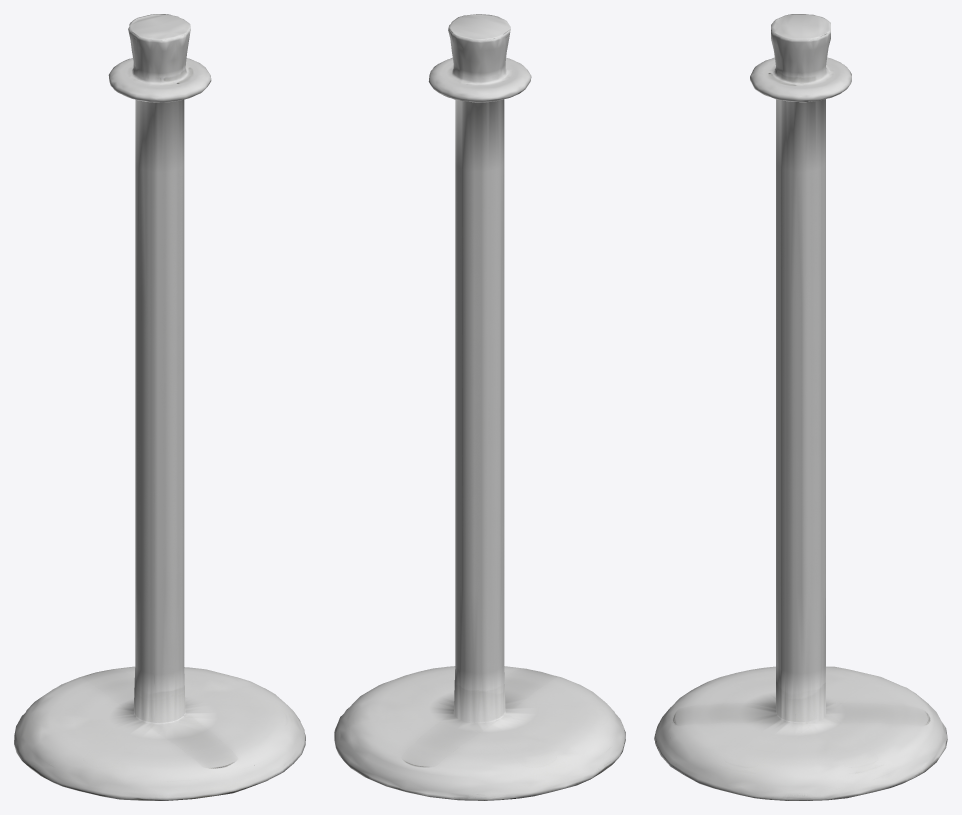
The model's file is Chrome_Stanchion_36InchesTall_0215213637_texture.glb.
3 renders of one model, left to right at view 1: azimuth 30°, elevation 25°; view 2: azimuth 150°, elevation 25°; view 3: azimuth 270°, elevation 25°, orthographic.
Visible parts, largest first — view 1: Mesh_0; view 2: Mesh_0; view 3: Mesh_0.
Part boxes in pixels (x1,y1,x2,y2): Mesh_0: (14,14,305,800); Mesh_0: (334,14,625,800); Mesh_0: (654,14,947,800).
Size of the model in its own units: 0.3361 by 0.9144 by 0.3398.
1 material, 1 textured.
